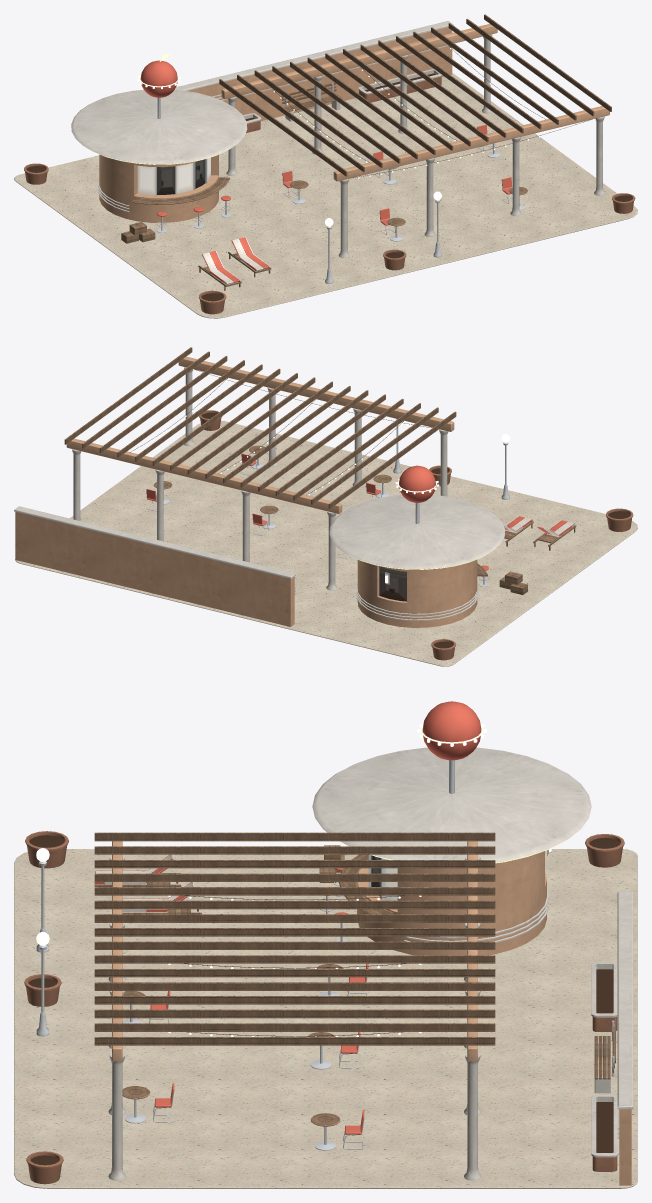
The model's file is plot_juice_kiosk.gltf.
3 renders of one model, top to bottom at view 1: azimuth 30°, elevation 25°; view 2: azimuth 150°, elevation 25°; view 3: azimuth 270°, elevation 25°, orthographic. The views are drawn at different scales.
Visible parts, largest first — view 1: plot_juice_kiosk_mesh; view 2: plot_juice_kiosk_mesh; view 3: plot_juice_kiosk_mesh.
Part boxes in pixels (x1,y1,x2,y2): plot_juice_kiosk_mesh: (14, 14, 637, 318); plot_juice_kiosk_mesh: (14, 347, 637, 666); plot_juice_kiosk_mesh: (14, 701, 637, 1188).
Bounding box in the file's own units: 19.4 × 6.09 × 15.1.
11 materials, 7 textured.
